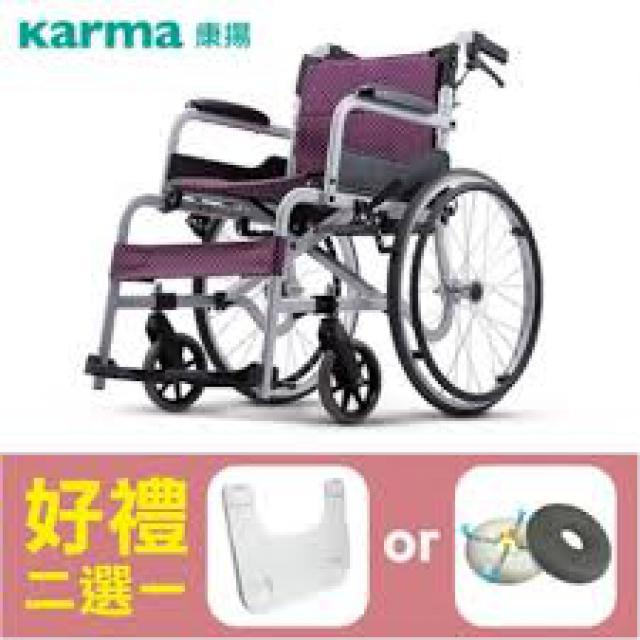wheelchair: (71, 28, 543, 424)
